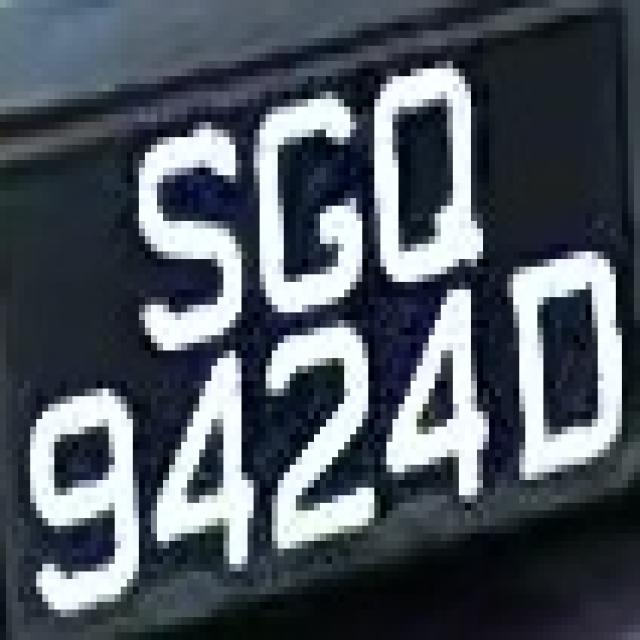2: (266, 328, 398, 548)
4: (374, 282, 514, 518), (139, 350, 272, 594)
9: (12, 366, 151, 602)
D: (483, 259, 634, 495)
G: (242, 84, 350, 335)
Q: (362, 46, 507, 290)
S: (102, 114, 248, 366)
